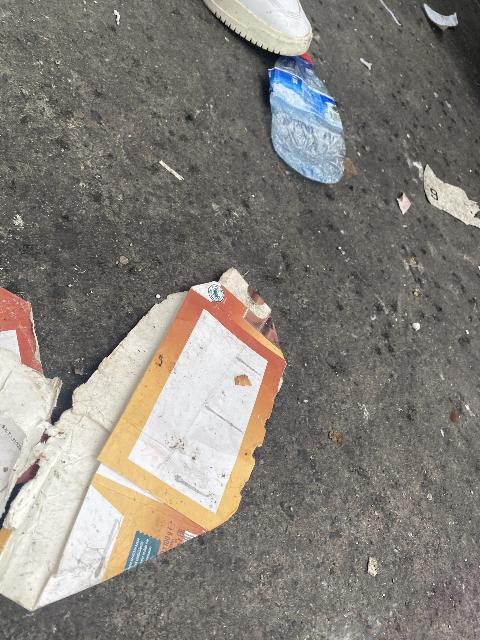Kagit: (0, 246, 308, 616), (387, 122, 480, 256), (411, 0, 471, 48), (351, 538, 384, 584), (159, 149, 190, 187)
Plastik: (262, 43, 359, 190)
